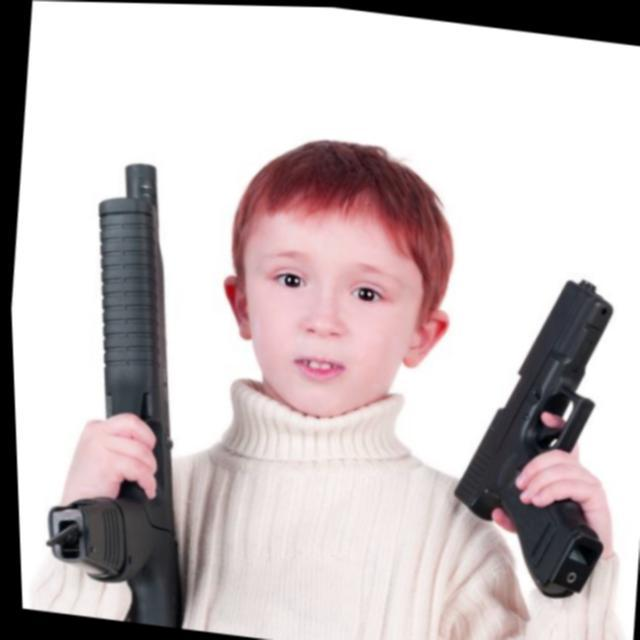weapon: (22, 152, 222, 628), (432, 260, 628, 602)
